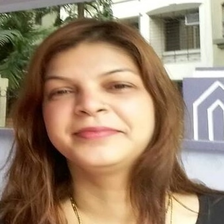no_mask: (43, 55, 151, 166)
